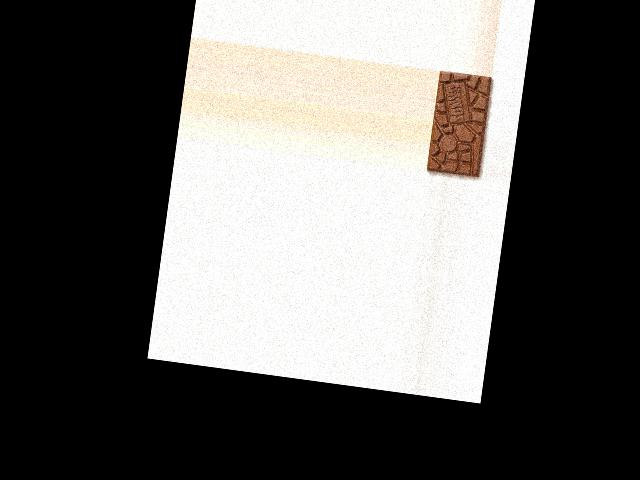chocolate: (426, 69, 495, 178)
